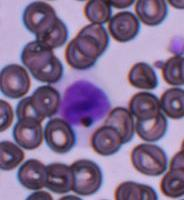L: (54, 75, 113, 127)
